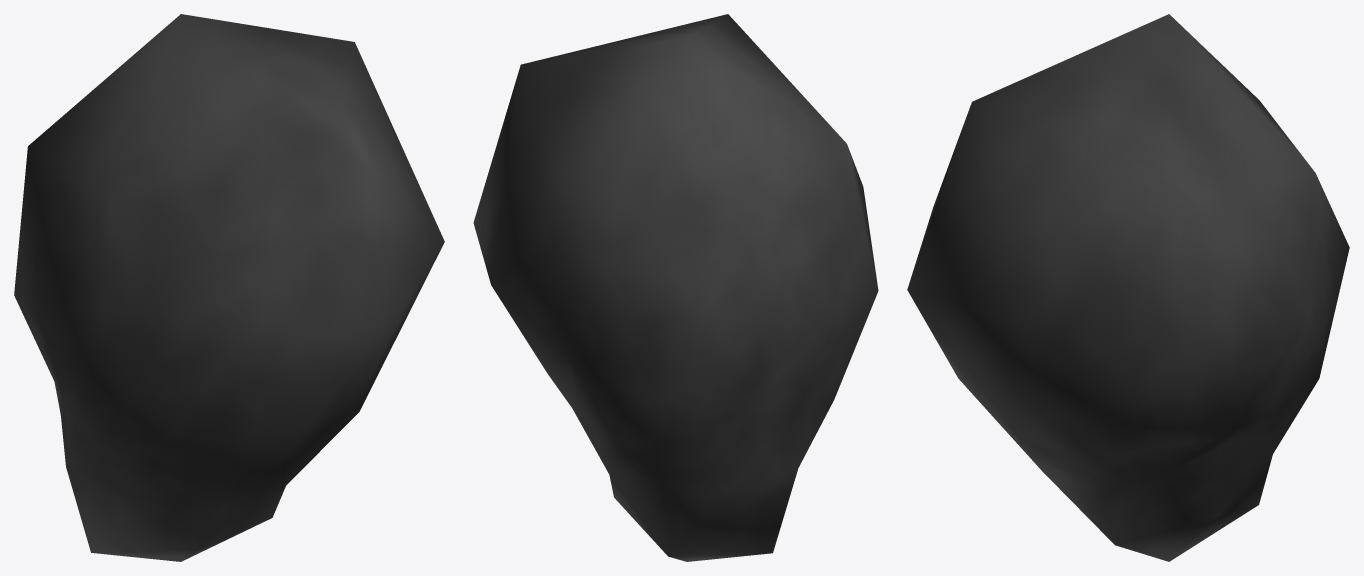
File: RockSmall2.fbx
The picture shows the model from 3 angles, left to right: view 1: azimuth 30°, elevation 25°; view 2: azimuth 150°, elevation 25°; view 3: azimuth 270°, elevation 25°; orthographic projection. The views are drawn at different scales.
Parts seen in each view (by area): view 1: RockSmall1; view 2: RockSmall1; view 3: RockSmall1.
Part boxes in pixels (box(x1,y1,x2,y2)): RockSmall1: box(14, 14, 444, 561); RockSmall1: box(473, 14, 878, 561); RockSmall1: box(907, 14, 1349, 561).
Bounding box in the file's own units: 44.4 × 63.73 × 46.64.
Materials: 1 (1 with a texture image).
